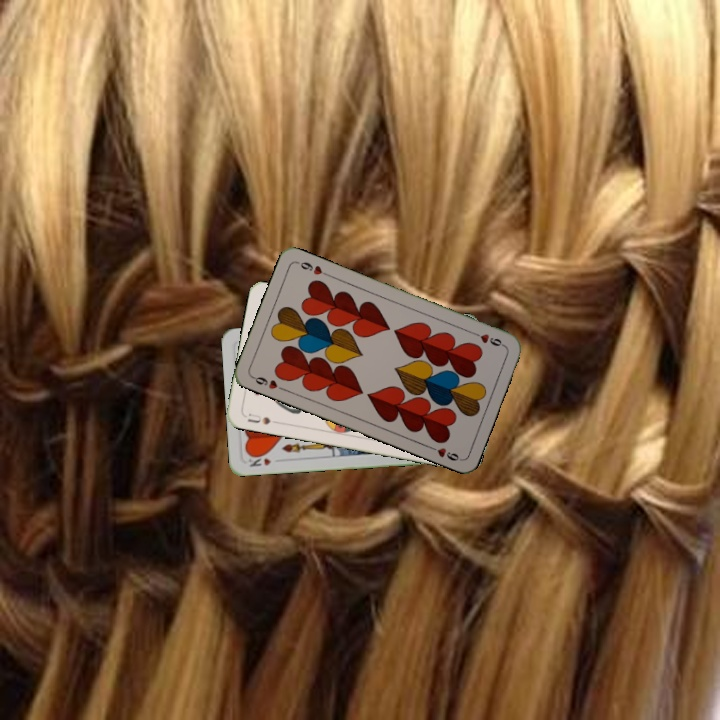H9: (248, 372, 287, 393), (468, 328, 507, 349)
HK: (244, 450, 274, 470)
SU: (244, 409, 281, 427)
